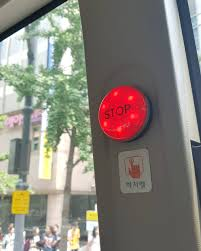bell: (95, 85, 154, 144)
